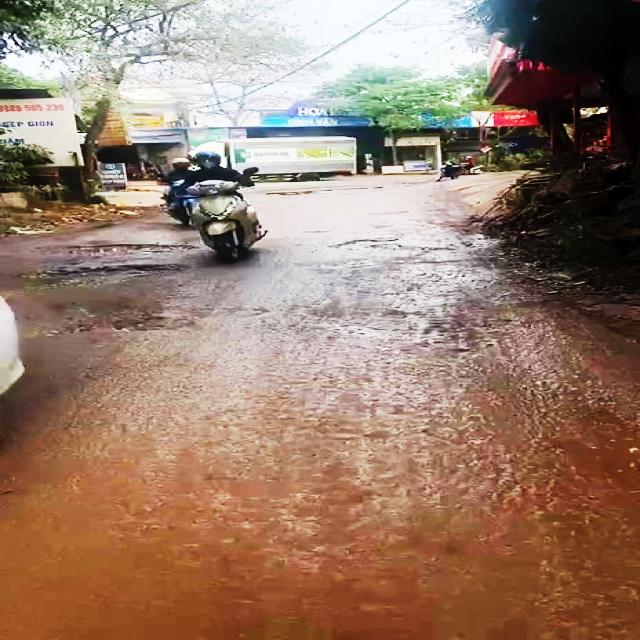pothole: (39, 309, 208, 337), (39, 258, 194, 283), (327, 235, 448, 256), (53, 240, 204, 252)
